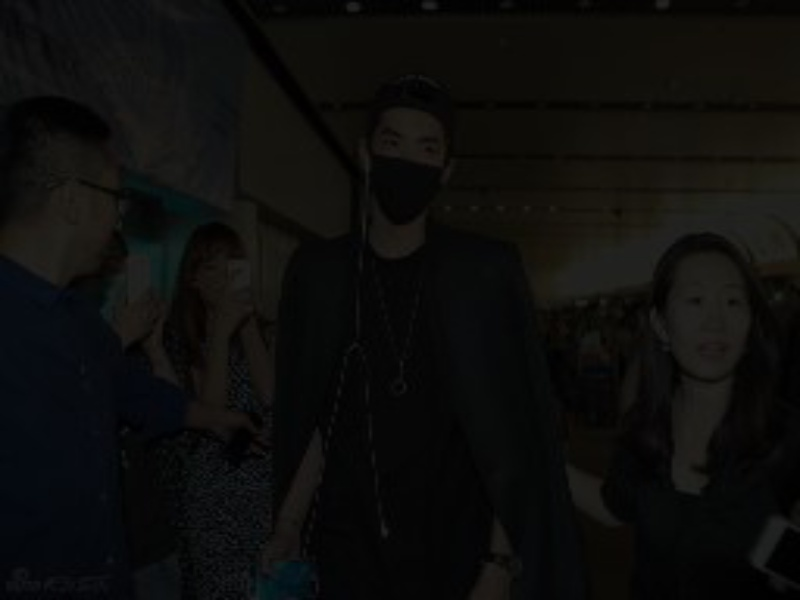ManaoArotava: (351, 69, 463, 248)
TsisyArotava: (48, 93, 150, 299), (637, 226, 762, 394)
